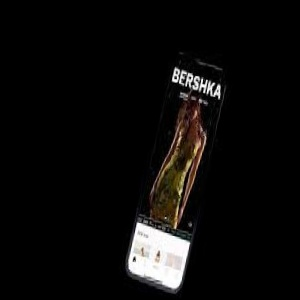bershka: (169, 53, 290, 102)
